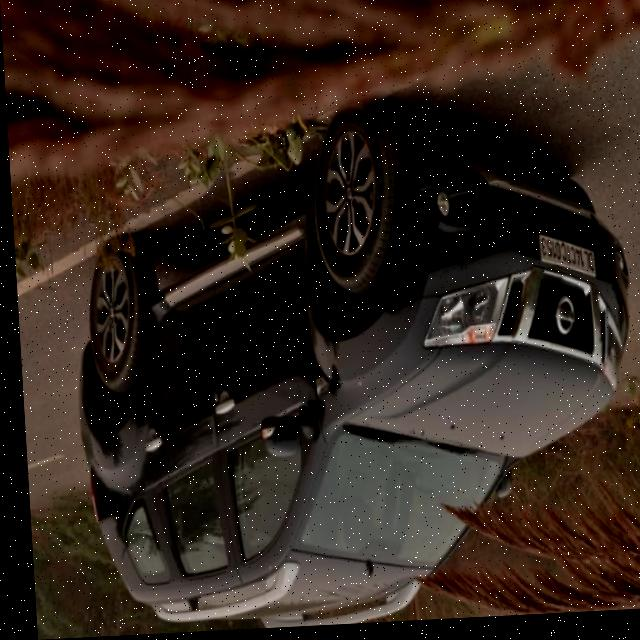plate: (534, 238, 596, 287)
